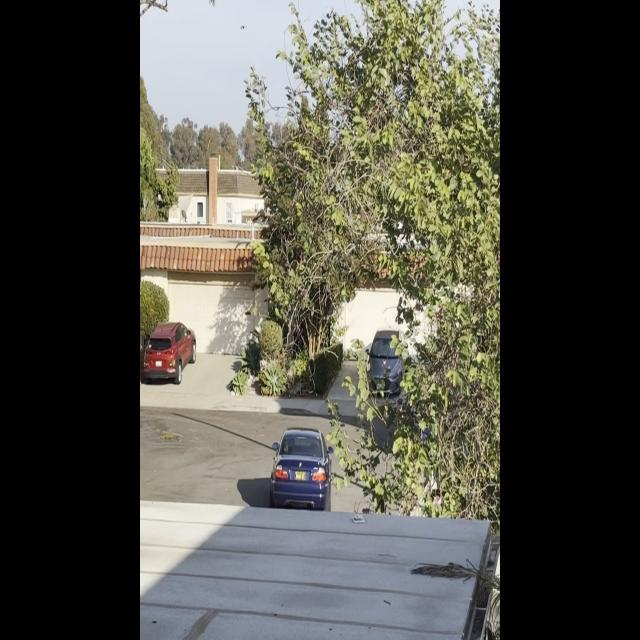Carbeetle: (262, 424, 339, 514)
Civilian: (140, 318, 199, 383), (363, 320, 409, 403)
